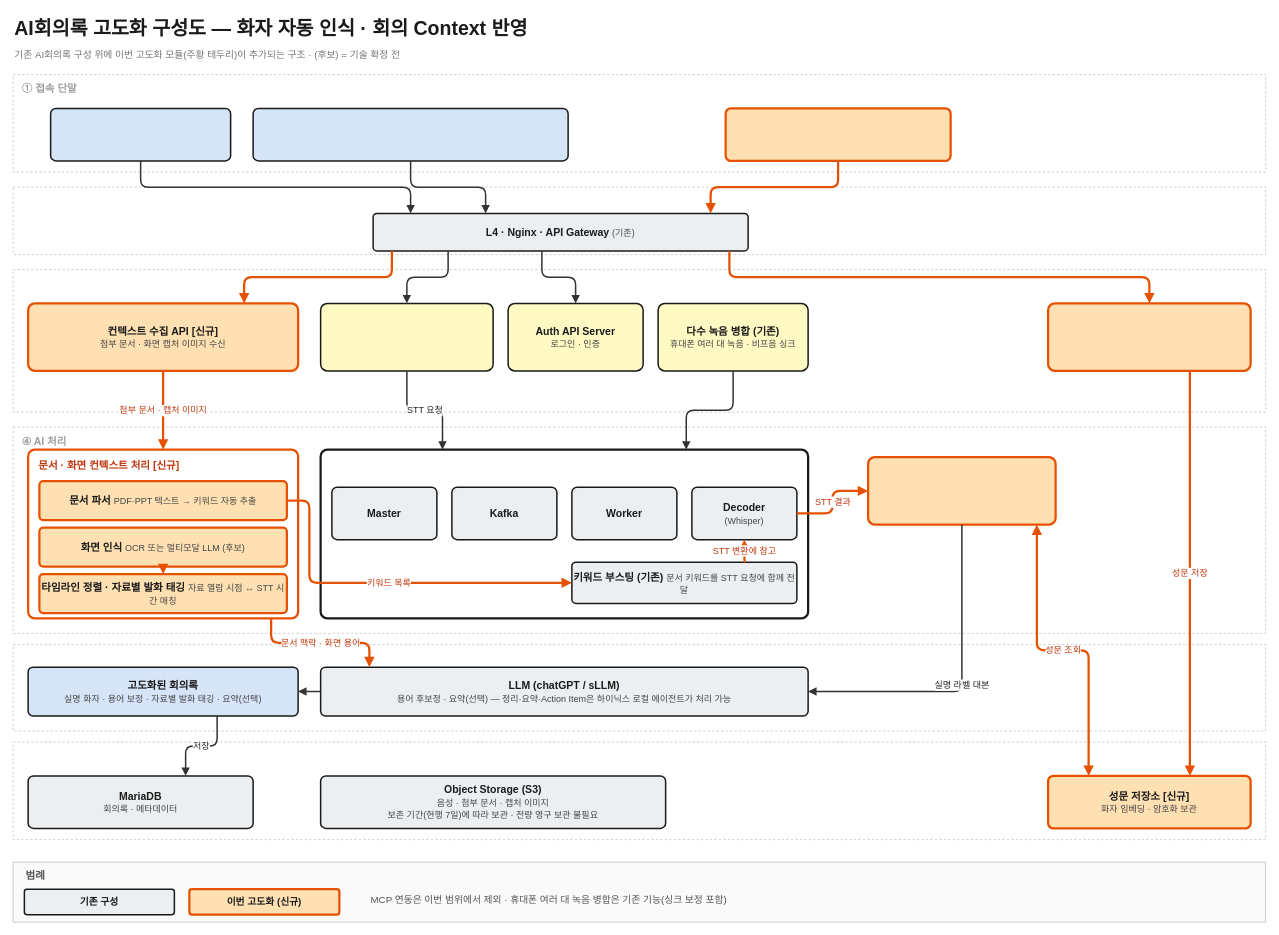
This 1279x935 diagram has some shape labels left out. Here are the shapes that lost their labels. From the top down, the box of each, then its label:
(50, 107, 231, 161): 모바일 앱 회의 녹음 · 파일 업로드
(252, 107, 568, 161): 회의록 사이트 (Web) 회의록 조회 · 첨부 파일 업로드 · 화면 공유 캡처 (기능 추가)
(724, 107, 951, 162): 성문 등록 화면 [신규] 모바일 앱 권장 · 동의 + 음성 녹음
(12, 186, 1266, 255): ② 게이트웨이
(320, 302, 494, 371): Main API Server 업로드 · STT 요청 · 회의록 생성
(12, 269, 1266, 412): ③ 회의록 서비스
(1047, 302, 1251, 372): 성문 등록·관리 API [신규] 동의 이력 · 성문 등록/삭제
(867, 456, 1056, 525): 화자분리 + 성문 매칭 [신규] 3rd-party 화자 임베딩 모델 (후보)
(319, 448, 809, 619): HAIV STT 엔진 (기존)
(12, 644, 1266, 731): ⑤ LLM · 결과
(12, 741, 1266, 840): ⑥ 저장소
